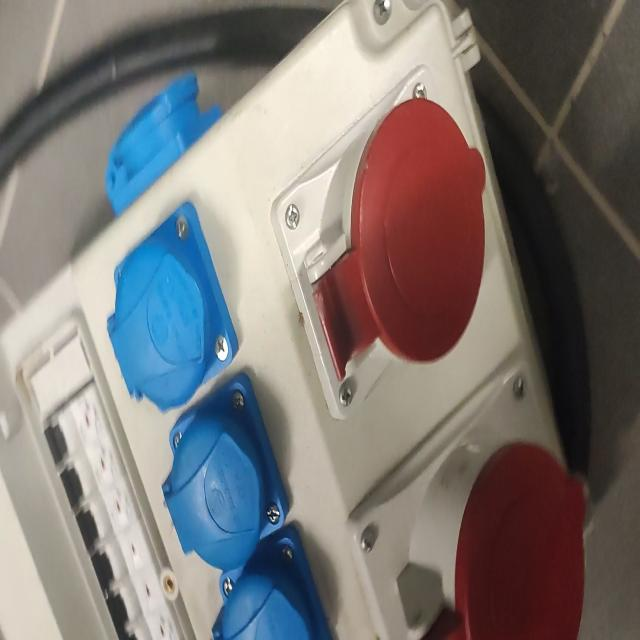400v socket: (270, 69, 489, 422), (344, 357, 588, 640)
house plug covered: (107, 203, 239, 413), (163, 372, 290, 564), (104, 71, 221, 212), (210, 524, 341, 640)
